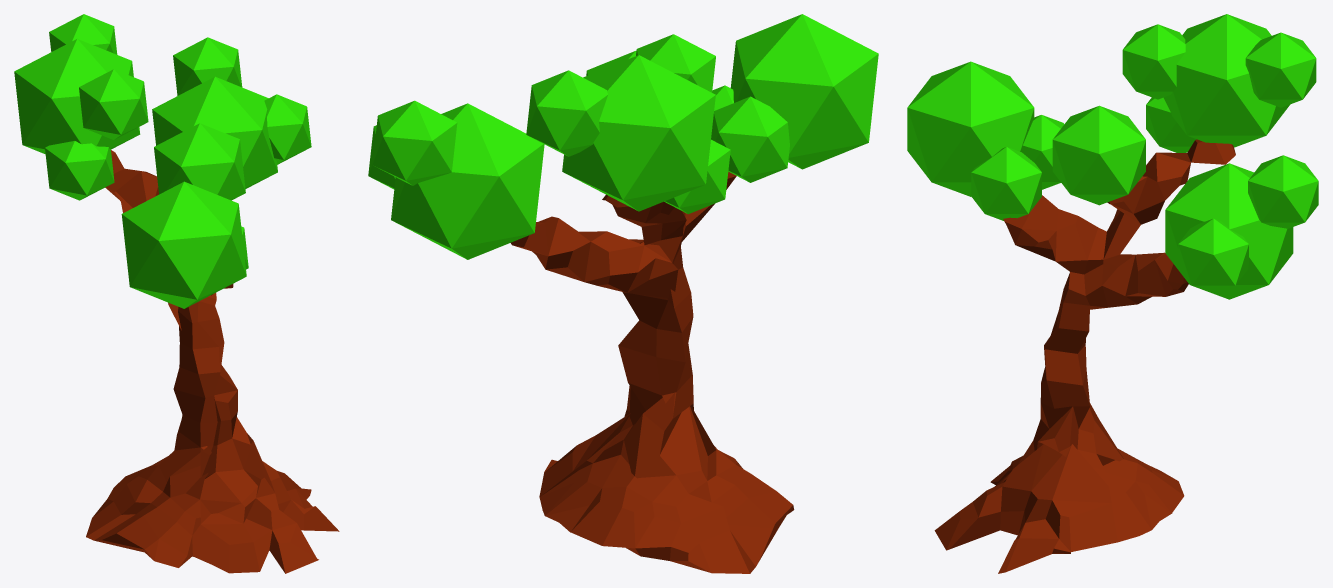
Rendered from tree2.glb.
3 renders of one model, left to right at view 1: azimuth 30°, elevation 25°; view 2: azimuth 150°, elevation 25°; view 3: azimuth 270°, elevation 25°, orthographic. The views are drawn at different scales.
Parts seen in each view (by area): view 1: trunk, Icosphere, Icosphere.002, Icosphere.003, Icosphere.001, Icosphere.007, Icosphere.006, Icosphere.009, Icosphere.010, Icosphere.008; view 2: trunk, Icosphere.002, Icosphere, Icosphere.003, Icosphere.009, Icosphere.008, Icosphere.005, Icosphere.007, Icosphere.006; view 3: trunk, Icosphere, Icosphere.002, Icosphere.003, Icosphere.001, Icosphere.008, Icosphere.010, Icosphere.009, Icosphere.004, Icosphere.007, Icosphere.005, Icosphere.006.
Boxes of the visible parts, <box> form: trunk: <box>86,150,339,573</box>; Icosphere: <box>121,181,246,308</box>; Icosphere.002: <box>14,39,140,154</box>; Icosphere.003: <box>152,76,277,188</box>; Icosphere.001: <box>154,123,245,200</box>; Icosphere.007: <box>79,69,148,139</box>; Icosphere.006: <box>45,141,114,200</box>; Icosphere.009: <box>173,37,242,95</box>; Icosphere.010: <box>264,94,311,164</box>; Icosphere.008: <box>49,14,117,54</box>; trunk: <box>511,171,794,573</box>; Icosphere.002: <box>562,55,715,211</box>; Icosphere: <box>730,14,878,169</box>; Icosphere.003: <box>391,103,544,259</box>; Icosphere.009: <box>372,100,457,185</box>; Icosphere.008: <box>526,70,608,156</box>; Icosphere.005: <box>711,96,789,182</box>; Icosphere.007: <box>636,34,715,92</box>; Icosphere.006: <box>664,139,730,214</box>; trunk: <box>934,139,1235,573</box>; Icosphere: <box>907,61,1034,196</box>; Icosphere.002: <box>1163,14,1290,147</box>; Icosphere.003: <box>1165,163,1293,299</box>; Icosphere.001: <box>1052,105,1145,205</box>; Icosphere.008: <box>1245,32,1316,107</box>; Icosphere.010: <box>1178,218,1248,293</box>; Icosphere.009: <box>1248,155,1318,228</box>; Icosphere.004: <box>971,147,1041,220</box>; Icosphere.007: <box>1122,24,1185,99</box>; Icosphere.005: <box>1021,115,1064,189</box>; Icosphere.006: <box>1146,97,1196,152</box>.
Bounding box in the file's own units: 13.16 × 19.58 × 15.14.
